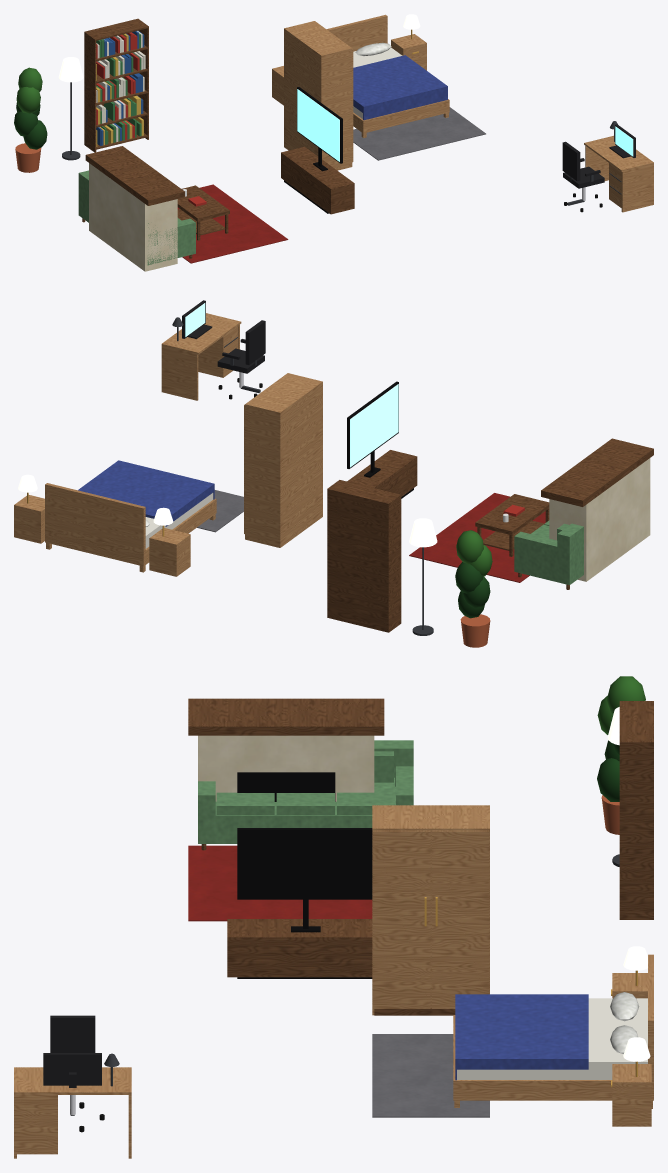
File: i_russian_izba.gltf
3 views of the same model, one above another, from view 1: azimuth 30°, elevation 25°; view 2: azimuth 150°, elevation 25°; view 3: azimuth 270°, elevation 25° (orthographic). The views are drawn at different scales.
Parts seen in each view (by area): view 1: I_russian_izba; view 2: I_russian_izba; view 3: I_russian_izba.
Boxes of the visible parts, x1,y1,x2,y2 form: I_russian_izba: (14, 14, 653, 271); I_russian_izba: (14, 300, 653, 647); I_russian_izba: (14, 676, 653, 1158).
Bounding box in the file's own units: 8.33 × 2.1 × 6.54.
29 materials, 10 textured.
